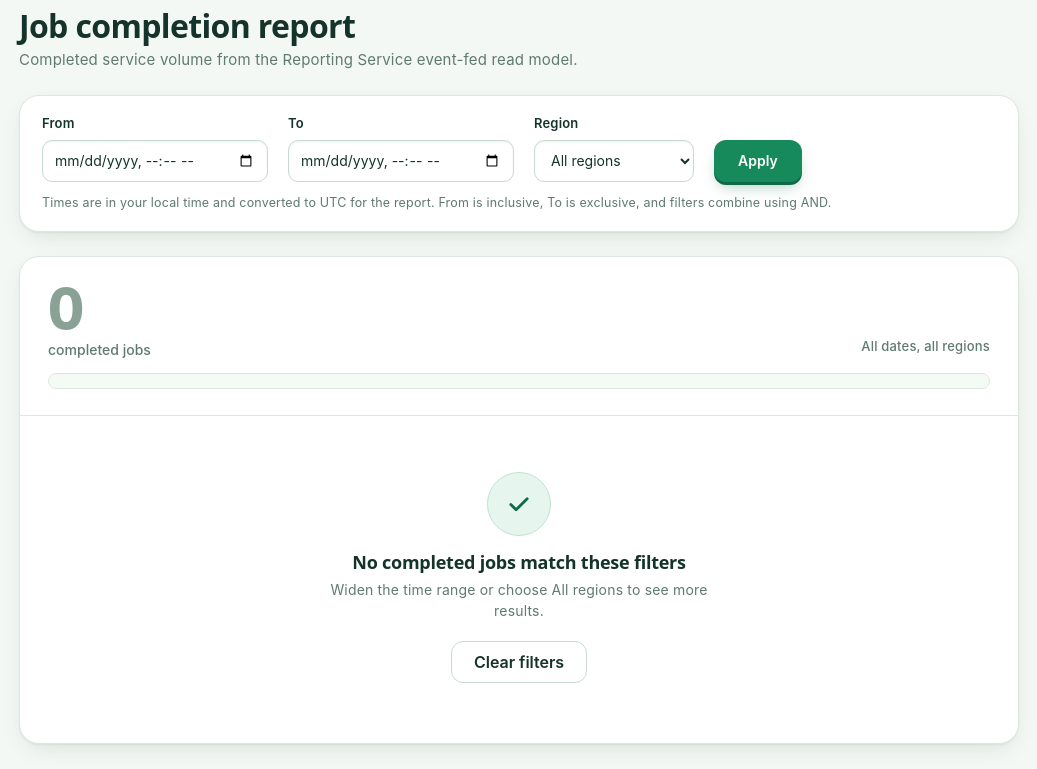
Test: Job completion dynamic report › displays service unavailable error on server failure on apply
Check: the heading "No completed jobs match these filters" is shown, box [352,550,686,574]
Click the button "Apply".
click(758, 161)  # box [714,140,802,182]
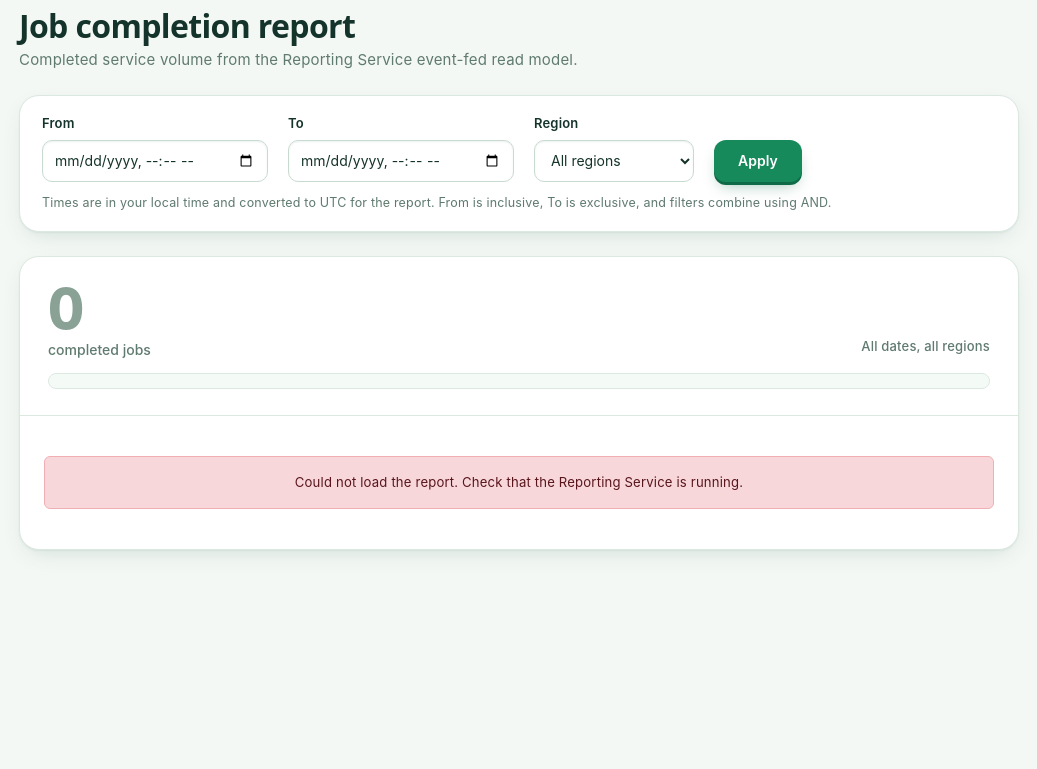
Check: the text "Could not load the report. Check that the Reporting Service is running." is shown, box [44,456,994,509]
